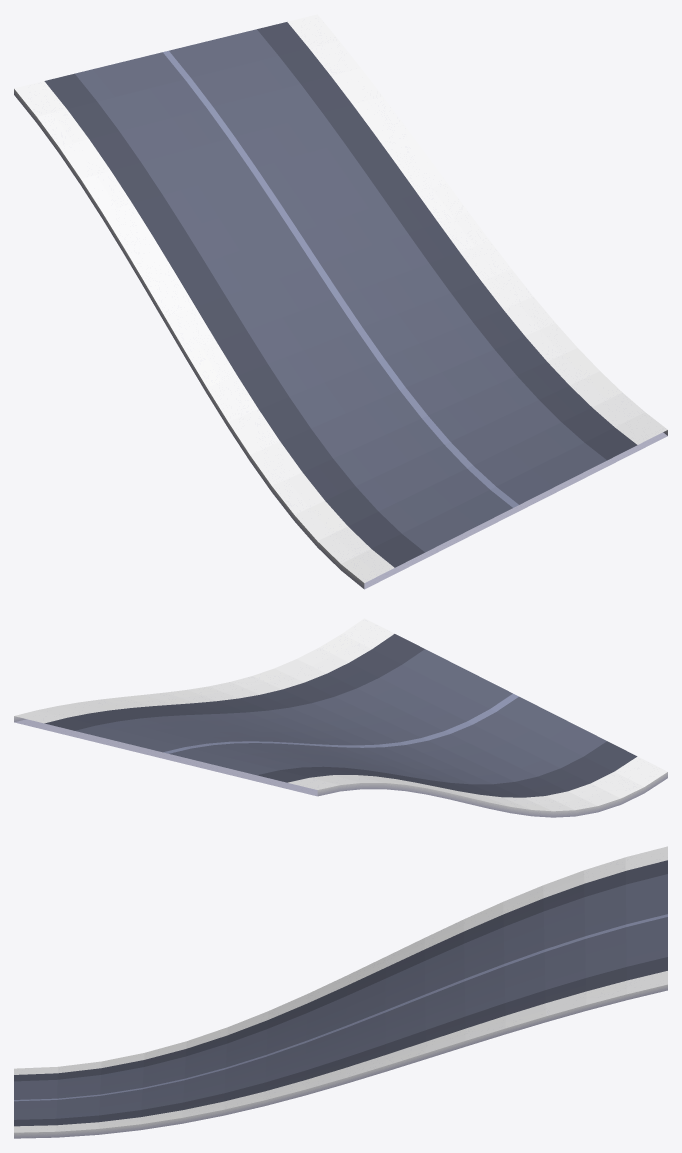
File: road-Straight-HalfBankedLeft-BiSlopeUp-Up3-Center-Size2.glb
3 views of the same model, one above another, from view 1: azimuth 30°, elevation 25°; view 2: azimuth 150°, elevation 25°; view 3: azimuth 270°, elevation 25° (orthographic). The views are drawn at different scales.
Parts seen in each view (by area): view 1: road-Straight-HalfBankedLeft-BiSlopeUp-Up3-Center-Size2; view 2: road-Straight-HalfBankedLeft-BiSlopeUp-Up3-Center-Size2; view 3: road-Straight-HalfBankedLeft-BiSlopeUp-Up3-Center-Size2.
Part boxes in pixels (x1,y1,x2,y2): road-Straight-HalfBankedLeft-BiSlopeUp-Up3-Center-Size2: (14,14,667,589); road-Straight-HalfBankedLeft-BiSlopeUp-Up3-Center-Size2: (14,618,667,817); road-Straight-HalfBankedLeft-BiSlopeUp-Up3-Center-Size2: (14,846,667,1138).
Bounding box in the file's own units: 1 × 0.77 × 2.
1 material, 1 textured.
